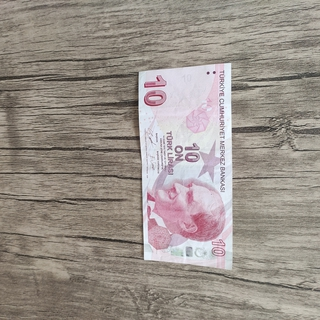10TLFront: (137, 61, 233, 271)
